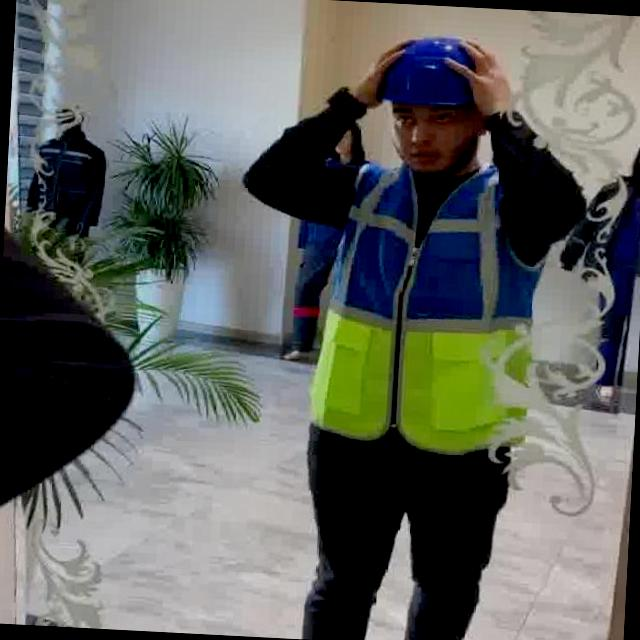vest: (305, 154, 548, 461)
